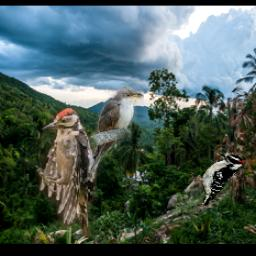Cuckoo: (87, 87, 144, 178)
Woodpecker: (35, 108, 97, 236), (183, 152, 244, 206)
